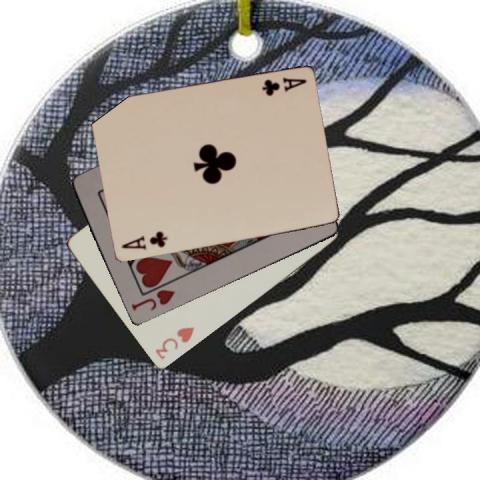3h: (152, 324, 196, 361)
Ac: (118, 228, 168, 250), (259, 75, 307, 97)
Jh: (128, 286, 177, 312)
